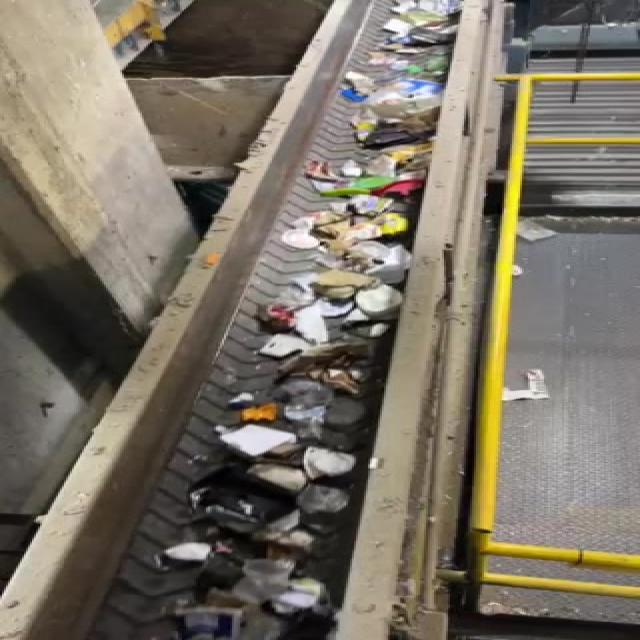paper: (212, 423, 310, 462), (145, 546, 237, 572)
pp: (250, 557, 295, 598), (300, 480, 351, 514)
